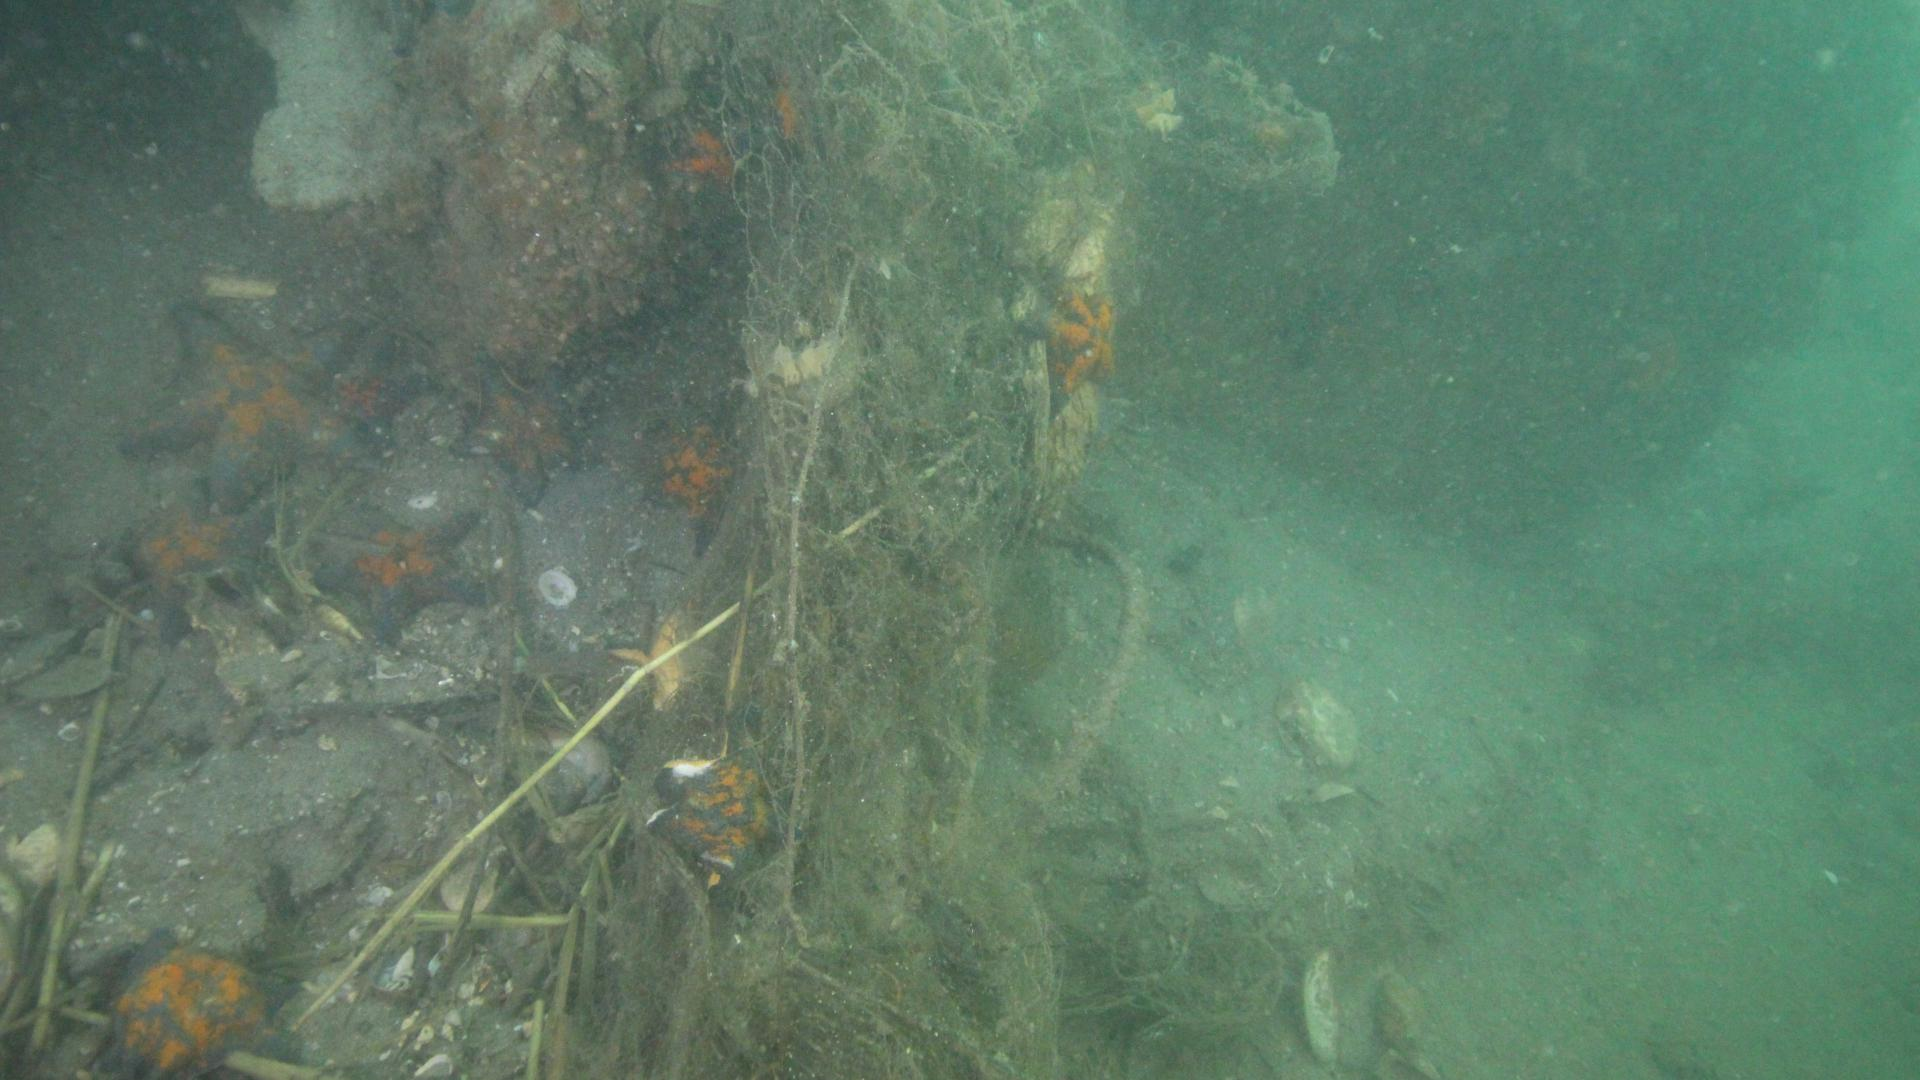rope: (1044, 522, 1149, 785)
